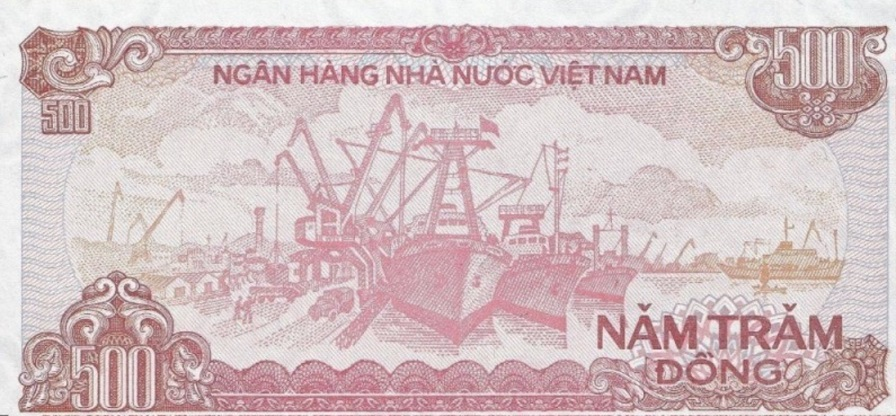500vnd: (1, 1, 896, 414)
